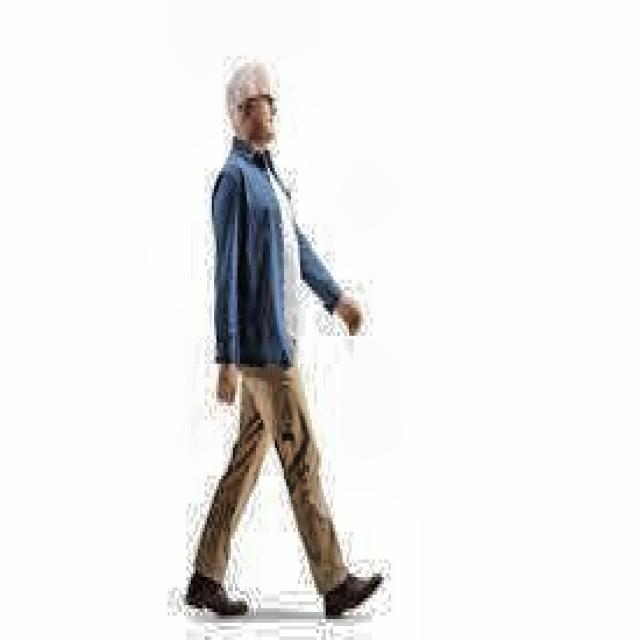Human: (166, 39, 396, 640)
